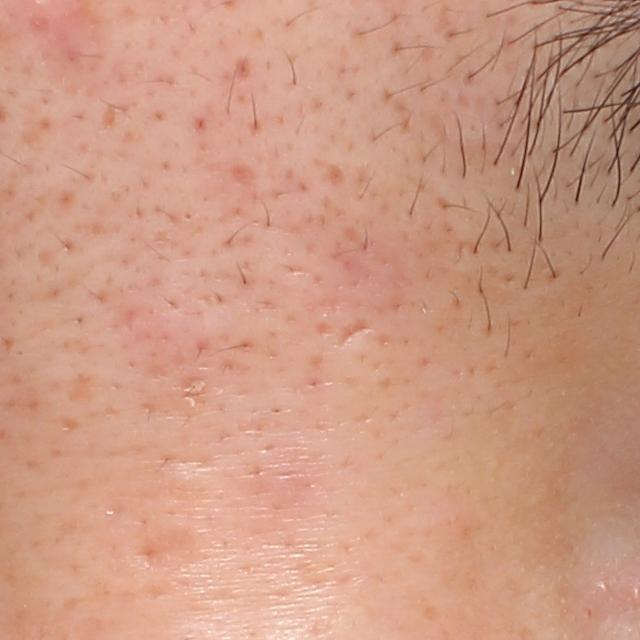atrophic_scar: (132, 525, 202, 577), (337, 317, 375, 352)
